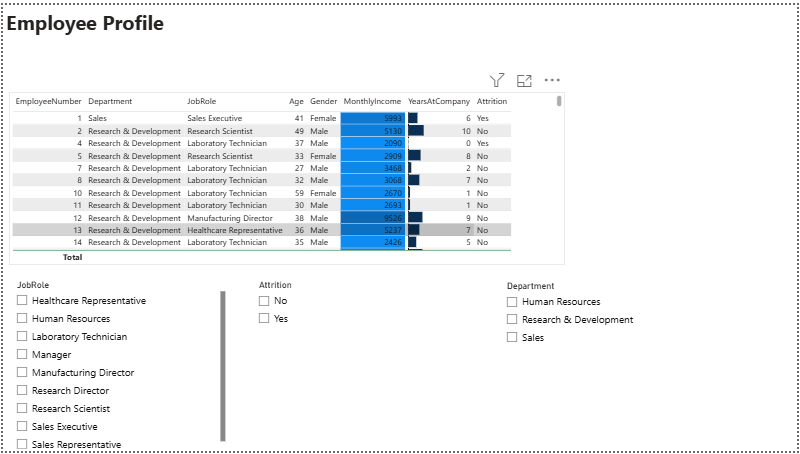

Layout of this report page (visuals, bound fields, positions):
{"tool":"powerbi","page":{"name":" Employee Profile / Deep Dive","canvas":[1280,720],"ordinal":3},"visuals":[{"type":"tableEx","fields":{"Values":["WA_Fn-UseC_-HR-Employee-Attrition.EmployeeNumber","WA_Fn-UseC_-HR-Employee-Attrition.Department","WA_Fn-UseC_-HR-Employee-Attrition.JobRole","WA_Fn-UseC_-HR-Employee-Attrition.Age","WA_Fn-UseC_-HR-Employee-Attrition.Gender","WA_Fn-UseC_-HR-Employee-Attrition.MonthlyIncome","WA_Fn-UseC_-HR-Employee-Attrition.YearsAtCompany","WA_Fn-UseC_-HR-Employee-Attrition.Attrition"]},"box":[10,140,896.7,280],"z":0},{"type":"slicer","fields":{"Values":["WA_Fn-UseC_-HR-Employee-Attrition.JobRole"]},"box":[10.1,438.4,354.4,282.2],"z":1000},{"type":"slicer","fields":{"Values":["WA_Fn-UseC_-HR-Employee-Attrition.Attrition"]},"box":[399.8,438.4,425,282.2],"z":2000},{"type":"slicer","fields":{"Values":["WA_Fn-UseC_-HR-Employee-Attrition.Department"]},"box":[799.6,440.1,480.4,280.5],"z":3000},{"type":"textbox","box":[0,0,799.6,114.2],"z":4000}]}

Visuals, with their boxes in screenshot pixels (x1, y1, x2, y2), scaled from the page's 1280x720 canvas onto the 800x454 screenshot:
tableEx - WA_Fn-UseC_-HR-Employee-Attrition.EmployeeNumber x WA_Fn-UseC_-HR-Employee-Attrition.Department: l=6, t=88, r=567, b=265
slicer - WA_Fn-UseC_-HR-Employee-Attrition.JobRole: l=6, t=276, r=228, b=453
slicer - WA_Fn-UseC_-HR-Employee-Attrition.Attrition: l=250, t=276, r=516, b=453
slicer - WA_Fn-UseC_-HR-Employee-Attrition.Department: l=500, t=278, r=799, b=453
textbox: l=0, t=0, r=500, b=72
